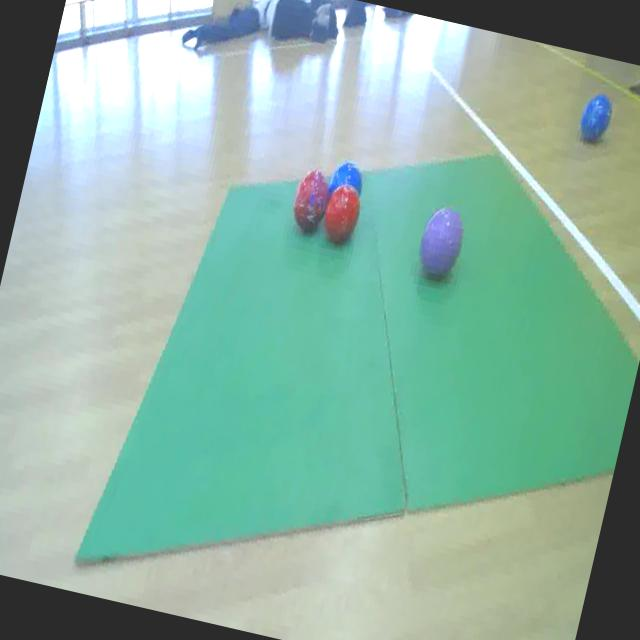blue_ball: (322, 157, 370, 215), (574, 85, 616, 148)
purple_ball: (413, 200, 469, 284)
red_ball: (320, 182, 369, 245), (288, 168, 336, 232)
